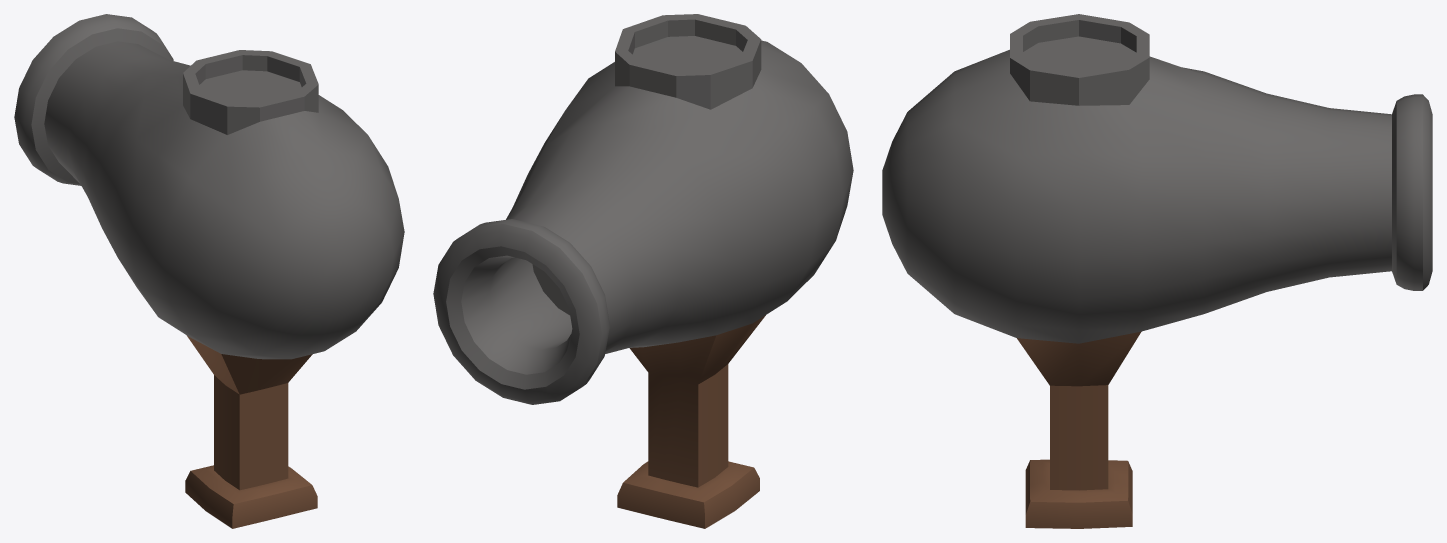
Rendered from Cañon 1.fbx.
3 renders of one model, left to right at view 1: azimuth 30°, elevation 25°; view 2: azimuth 150°, elevation 25°; view 3: azimuth 270°, elevation 25°, orthographic. The views are drawn at different scales.
Parts seen in each view (by area): view 1: Cañon; view 2: Cañon; view 3: Cañon.
Boxes of the visible parts, x1,y1,x2,y2 form: Cañon: (14, 14, 404, 528); Cañon: (433, 14, 853, 528); Cañon: (882, 14, 1432, 528).
Bounding box in the file's own units: 263 × 439 × 477.
